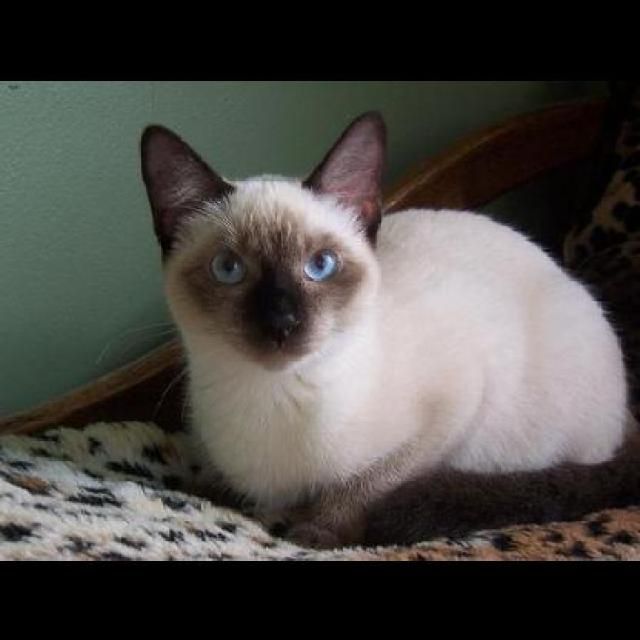unauthorized: (134, 108, 638, 549)
